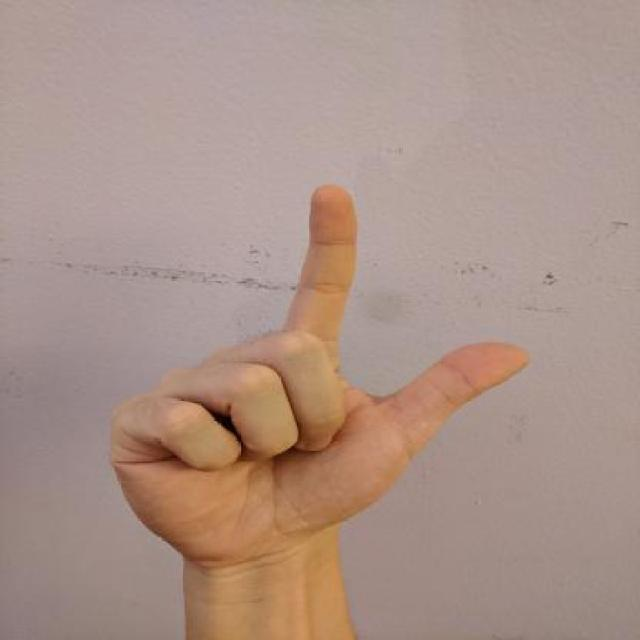L: (101, 177, 538, 577)
